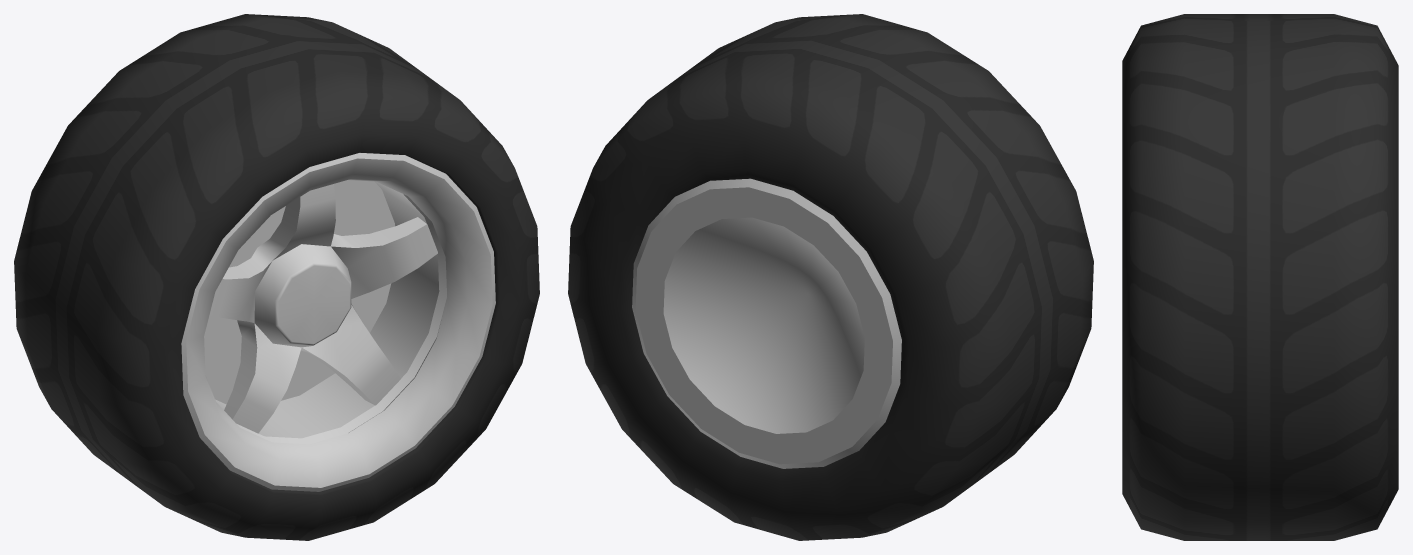
File: Wheel_03.fbx
3 views of the same model, side by side, from view 1: azimuth 30°, elevation 25°; view 2: azimuth 150°, elevation 25°; view 3: azimuth 270°, elevation 25° (orthographic). The views are drawn at different scales.
Parts seen in each view (by area): view 1: Wheel_03; view 2: Wheel_03; view 3: Wheel_03.
Boxes of the visible parts, <box> form: Wheel_03: <box>14,14,539,540</box>; Wheel_03: <box>568,14,1093,540</box>; Wheel_03: <box>1122,14,1398,540</box>.
Bounding box in the file's own units: 95 × 50 × 95.
